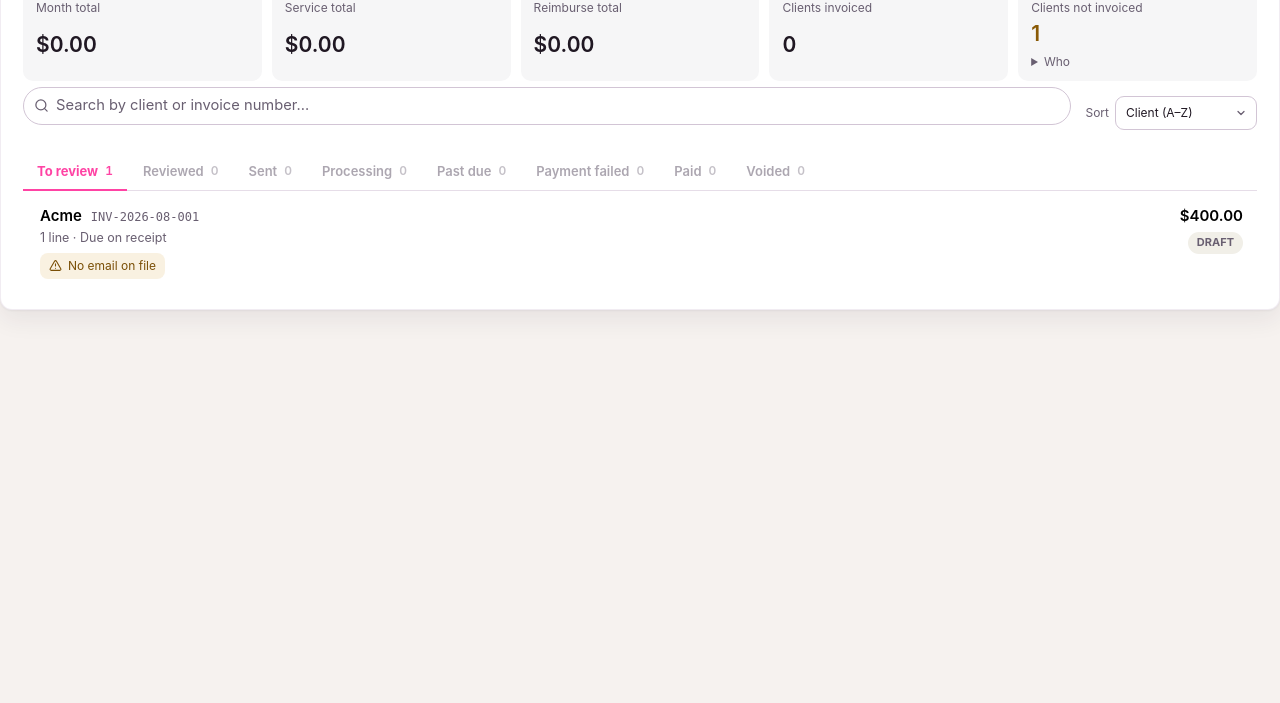
Scenario: InvoiceMonthRun — the retainer credit › never offers more than the invoice comes to
Click the text "INV-2026-08-001". click: coordinates (145, 218)
box: [91,209,199,227]
(page scrolled)
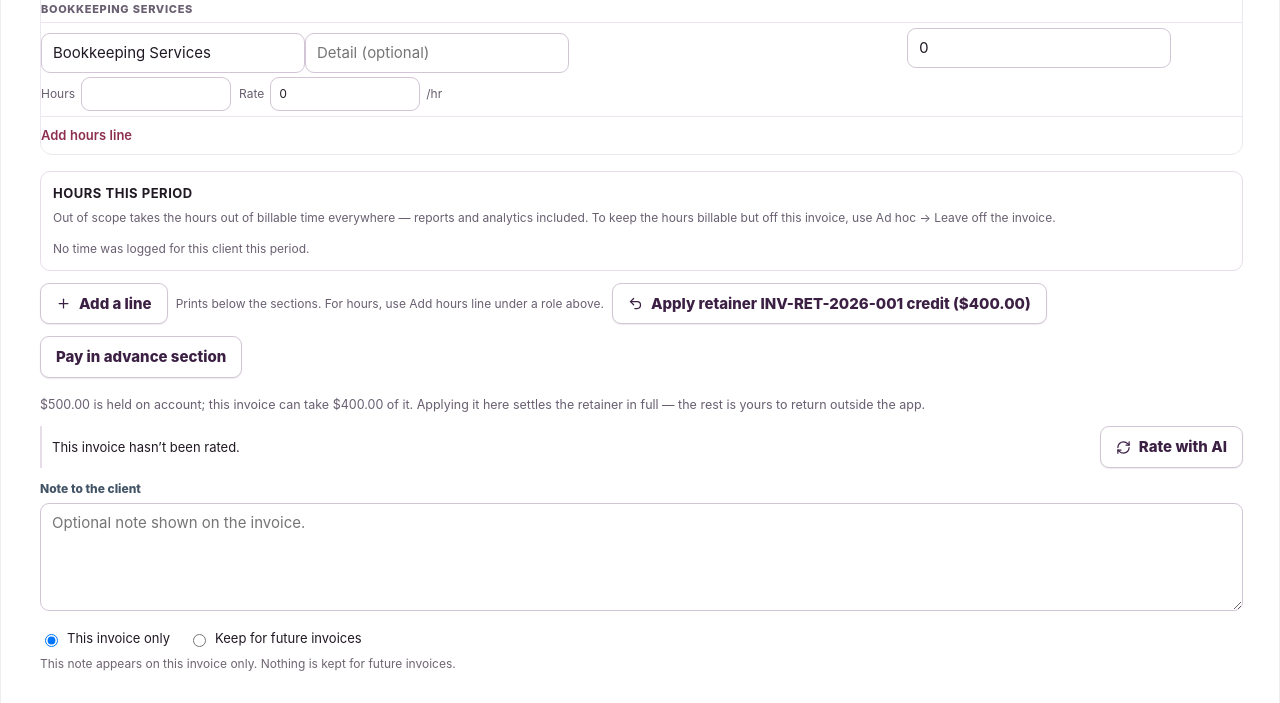
Expected: the button "Apply retainer INV-RET-2026-001 credit ($400.00)" is shown
Expected: the text "held on account" is shown, [90,397,329,412]
Click the button "Apply retainer INV-RET-2026-001 credit ($400.00)". click: coordinates (829, 304)
box: [612,283,1047,324]
(page scrolled)
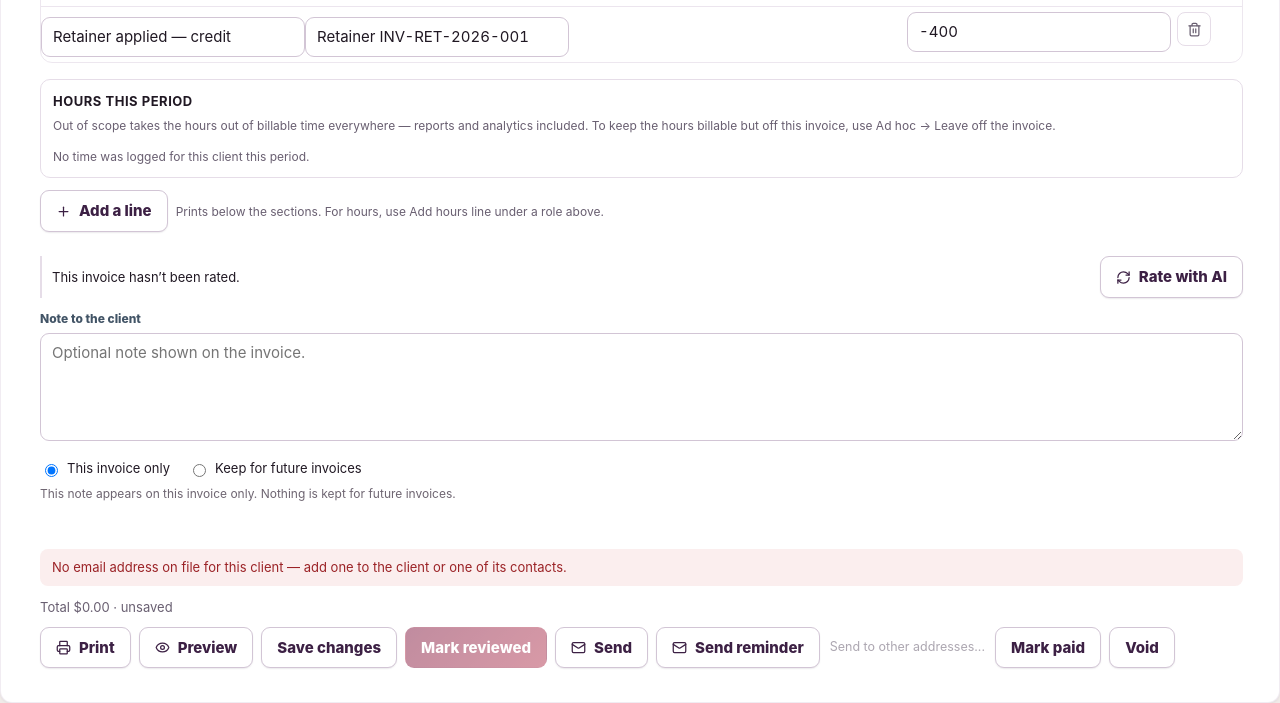
Expected: the text "Total $0.00 · unsaved" is shown, [40,598,173,617]
